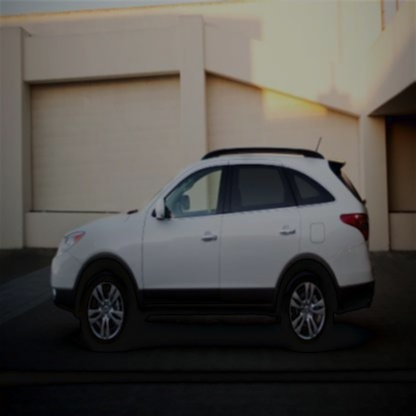Vehicle: (49, 137, 378, 353)
